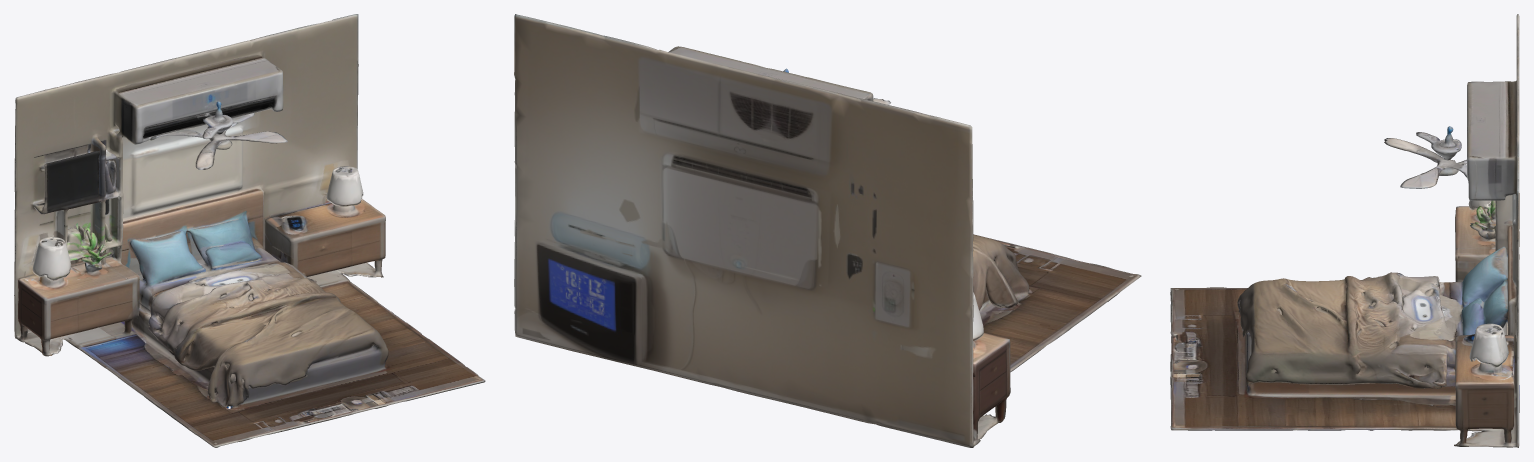
File: bedroom.glb
3 renders of one model, left to right at view 1: azimuth 30°, elevation 25°; view 2: azimuth 150°, elevation 25°; view 3: azimuth 270°, elevation 25°, orthographic. The views are drawn at different scales.
Bounding box in the file's own units: 2 × 1.34 × 1.65.
Materials: 1 (1 with a texture image).
